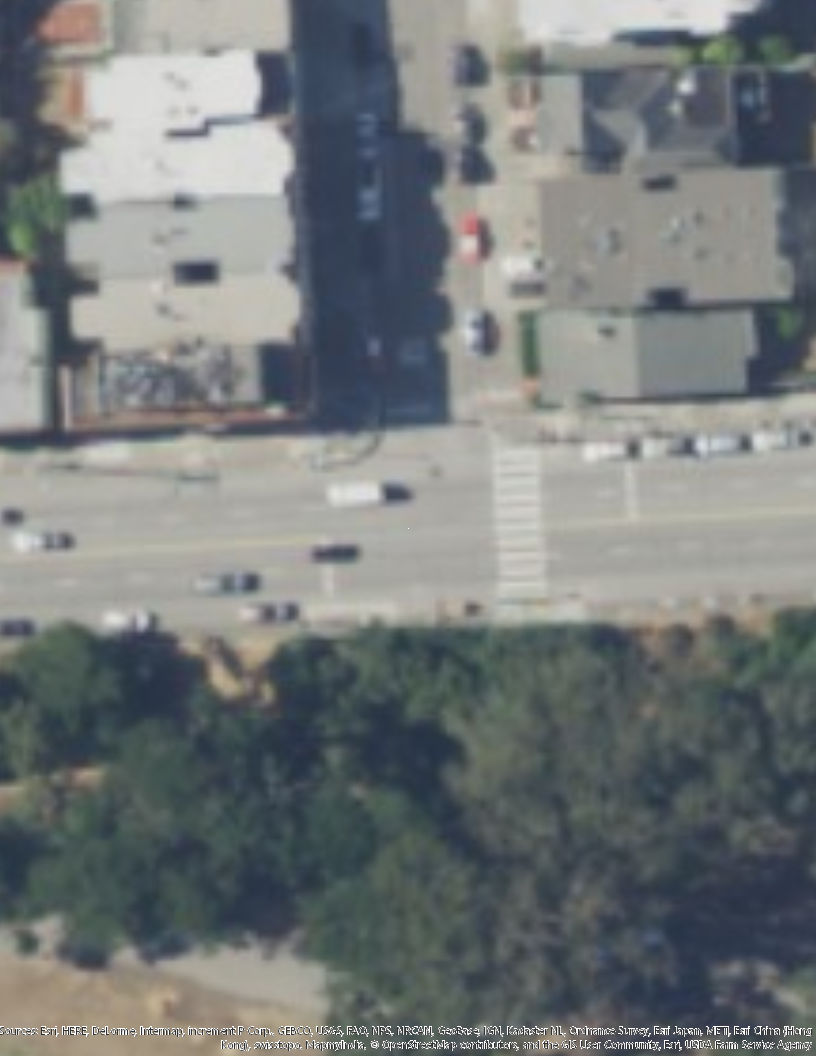zebracross: (491, 445, 550, 603)
